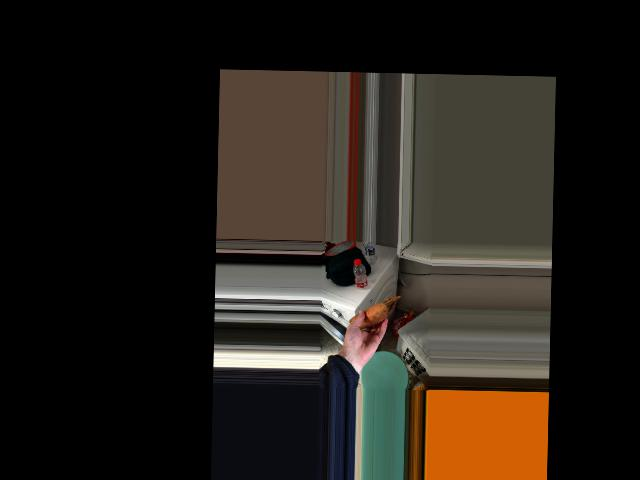sweet_potato: (354, 301, 386, 333)
